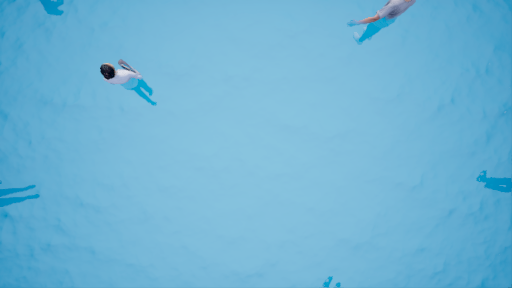person: (93, 56, 163, 108)
